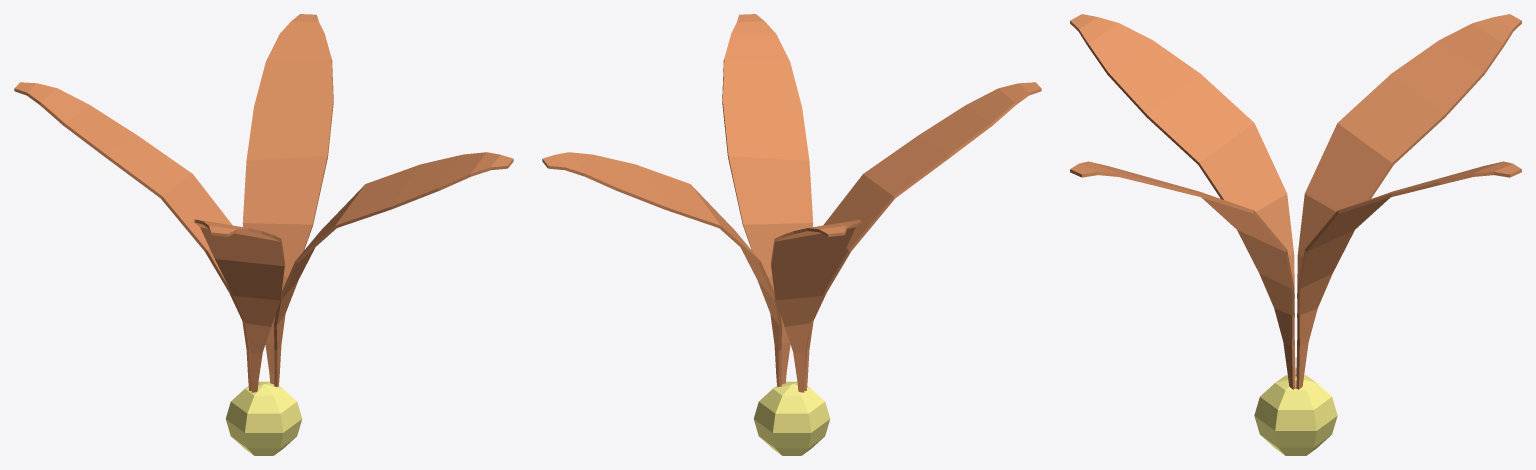
The model's file is seed1.fbx.
3 views of the same model, side by side, from view 1: azimuth 30°, elevation 25°; view 2: azimuth 150°, elevation 25°; view 3: azimuth 270°, elevation 25° (orthographic). The views are drawn at different scales.
Visible parts, largest first — view 1: 贝塞尔曲线; view 2: 贝塞尔曲线; view 3: 贝塞尔曲线.
Part boxes in pixels (x1,y1,x2,y2): 贝塞尔曲线: (14, 14, 513, 455); 贝塞尔曲线: (542, 14, 1041, 455); 贝塞尔曲线: (1070, 14, 1521, 455).
Size of the model in its own units: 113 by 118 by 135.
